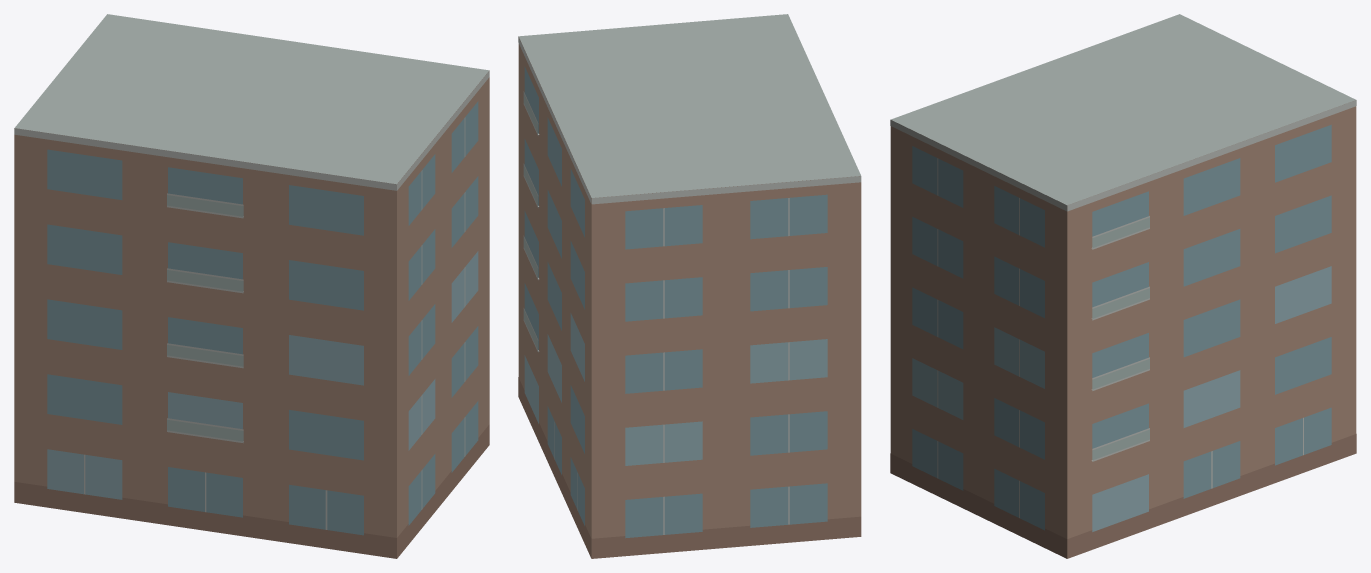
Rendered from survey-upis-32995225.glb.
3 views of the same model, side by side, from view 1: azimuth 30°, elevation 25°; view 2: azimuth 150°, elevation 25°; view 3: azimuth 270°, elevation 25° (orthographic). The views are drawn at different scales.
Parts seen in each view (by area): view 1: survey-upis-32995225.tmp; view 2: survey-upis-32995225.tmp; view 3: survey-upis-32995225.tmp.
Boxes of the visible parts, x1=… form: survey-upis-32995225.tmp: x1=14, y1=14, x2=489, y2=558; survey-upis-32995225.tmp: x1=518, y1=14, x2=861, y2=558; survey-upis-32995225.tmp: x1=890, y1=14, x2=1356, y2=558.
Bounding box in the file's own units: 16.02 × 13.8 × 16.49.
